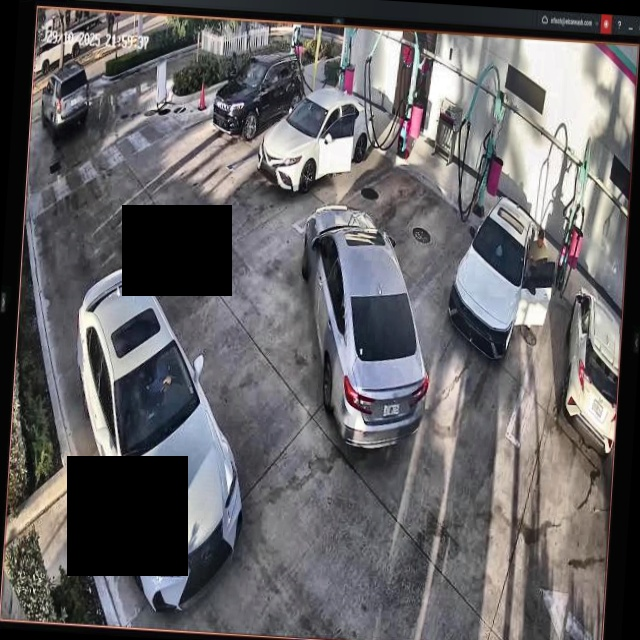Car: (61, 262, 258, 614), (292, 200, 439, 456), (446, 197, 544, 362), (256, 82, 374, 196)
